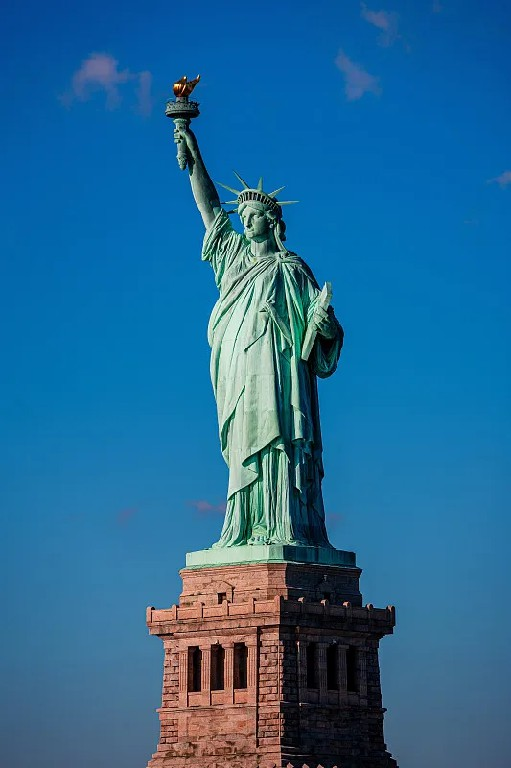SL: (147, 73, 400, 768)
